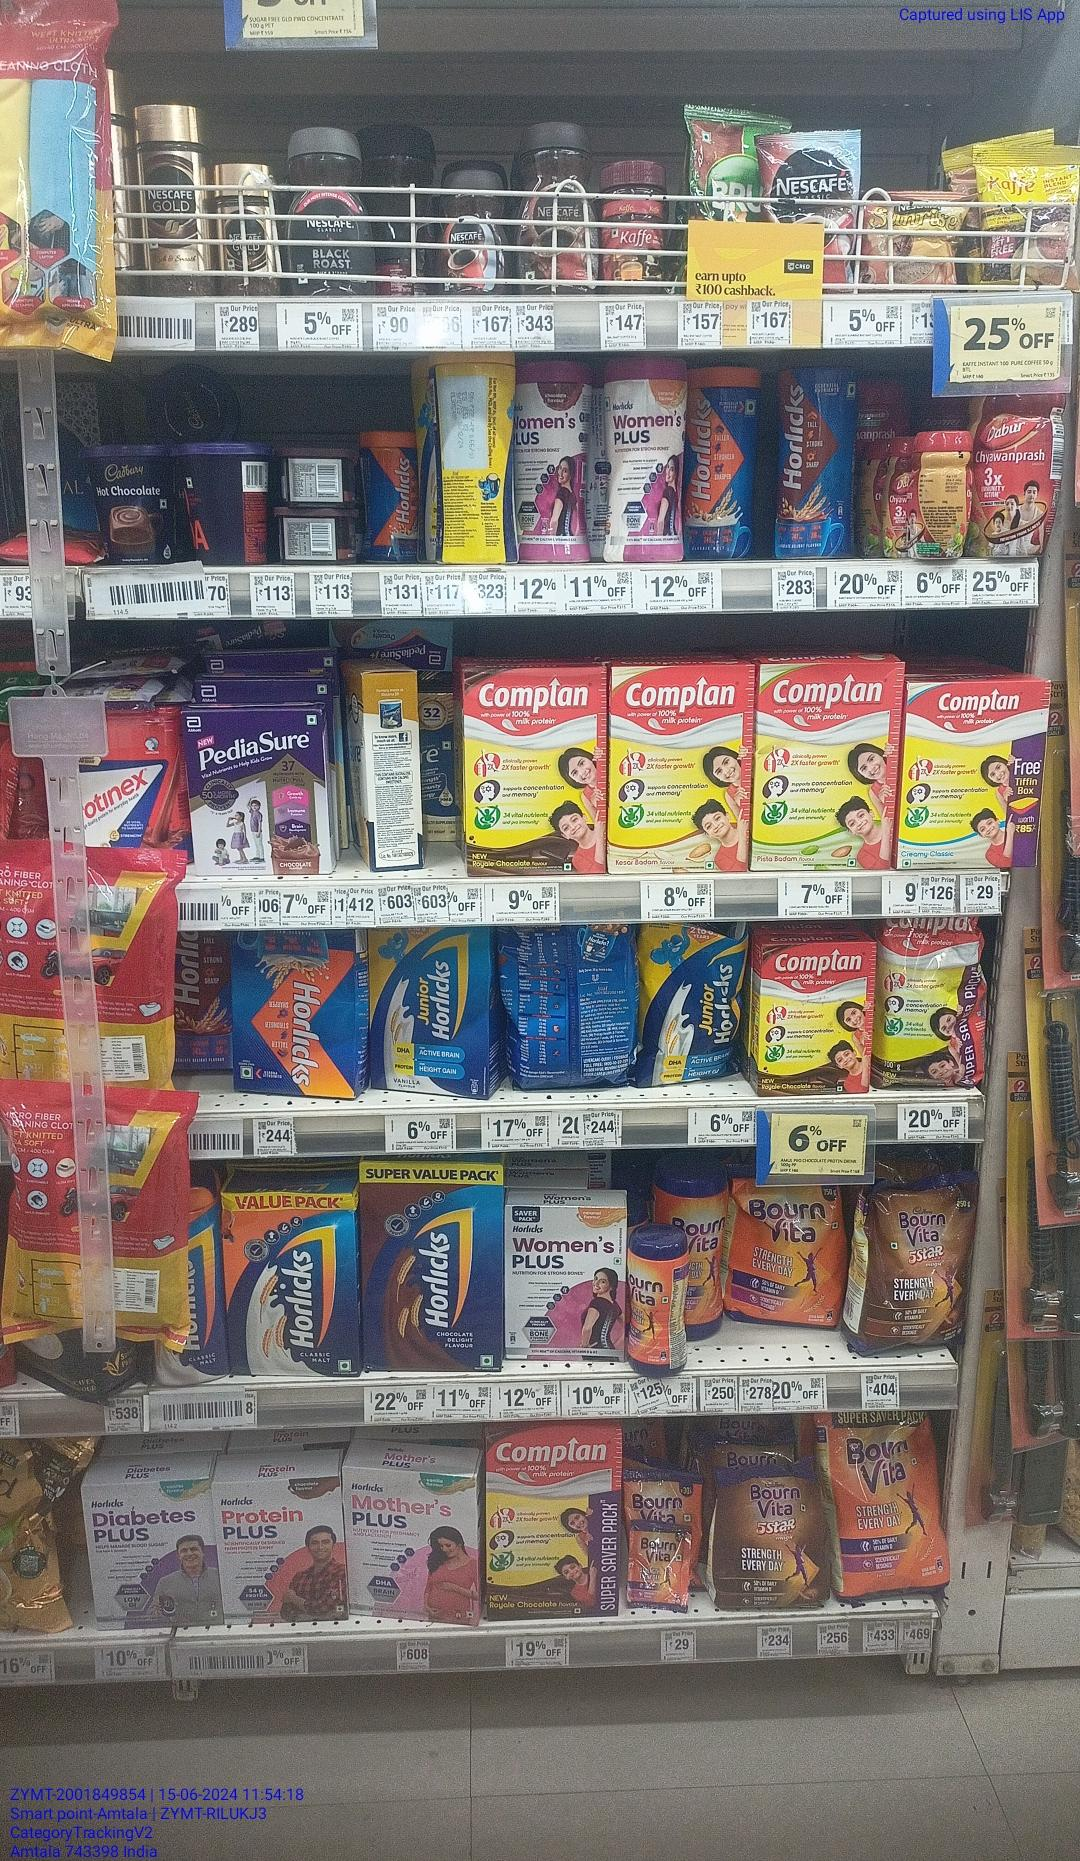BOURN_VITA_1_KG_POUCH: (833, 1411, 945, 1595)
BOURN_VITA_200_G_JAR: (630, 1231, 683, 1379)
BOURN_VITA_750_G_POUCH: (729, 1181, 837, 1330)
BOURN_VITA_FIVE_STAR_MAGIC_500_G_POUCH: (716, 1466, 824, 1609)
BOURN_VITA_FIVE_STAR_MAGIC_750_G_POUCH: (842, 1182, 963, 1346)
COMPLAN_CHOCOLATE_1_KG_PACK: (487, 1424, 620, 1622)
COMPLAN_CHOCOLATE_500_GMS_PACK: (464, 668, 603, 874), (759, 946, 870, 1094)
COMPLAN_CREAMY_CLASSIC_500_G_PACK: (903, 685, 1036, 866)
COMPLAN_KESAR_BADAM_500_GMS_PACK: (608, 671, 746, 870)
COMPLAN_PISTA_BADAM_500_GMS_PACK: (759, 667, 895, 870)
COMPLAN_RC_POUCH_700_GMS_12: (878, 918, 985, 1087)
HORLICK_CHOCOLATE_500_G_JAR: (775, 353, 854, 557)
HORLICK_CLASSIC_MALT_200_G_JAR: (359, 432, 414, 563)
HORLICK_CLASSIC_MALT_500_G_JAR: (687, 368, 753, 558)
PROTINEX_CHOCOLATE_400_G_JAR: (189, 712, 324, 878)
